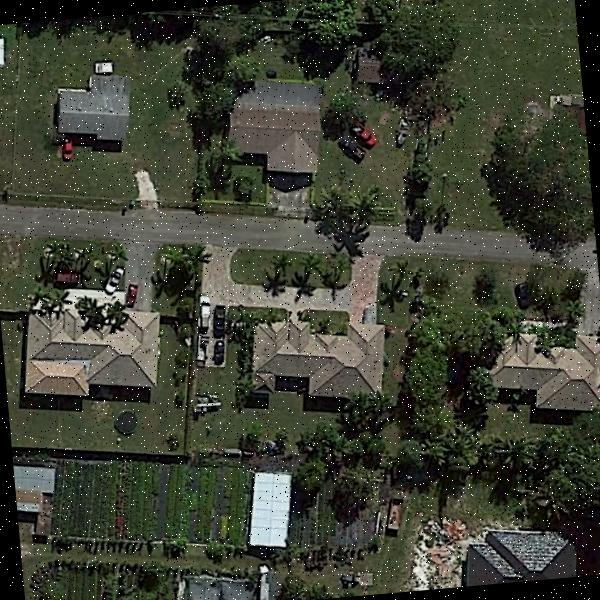Buildings: (20, 312, 166, 394), (253, 313, 384, 400), (226, 88, 326, 166), (475, 518, 579, 585), (497, 343, 600, 402), (60, 77, 138, 136)
